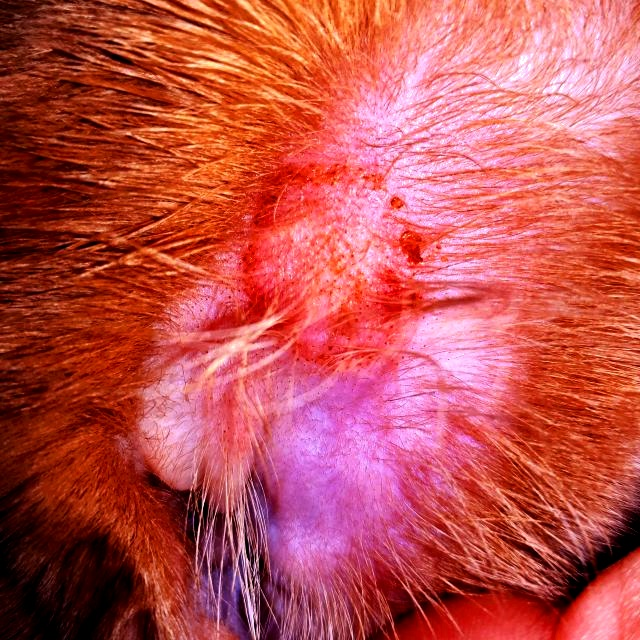ringworm: (242, 159, 417, 380)
